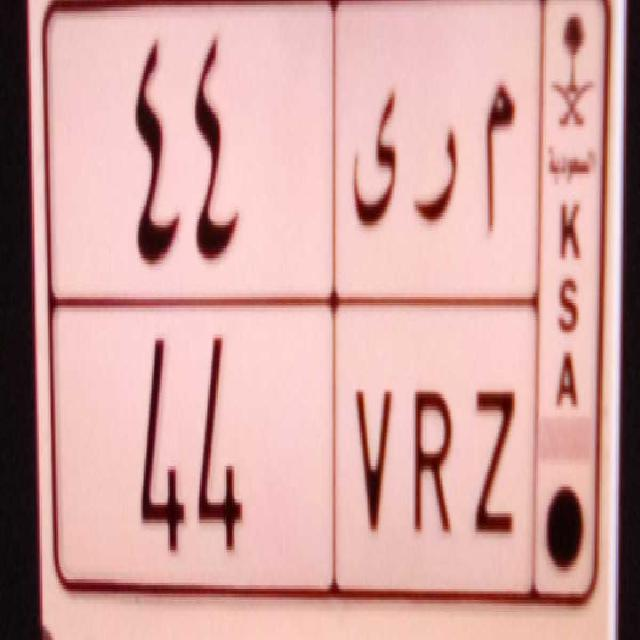license_plate: (51, 292, 537, 608)
